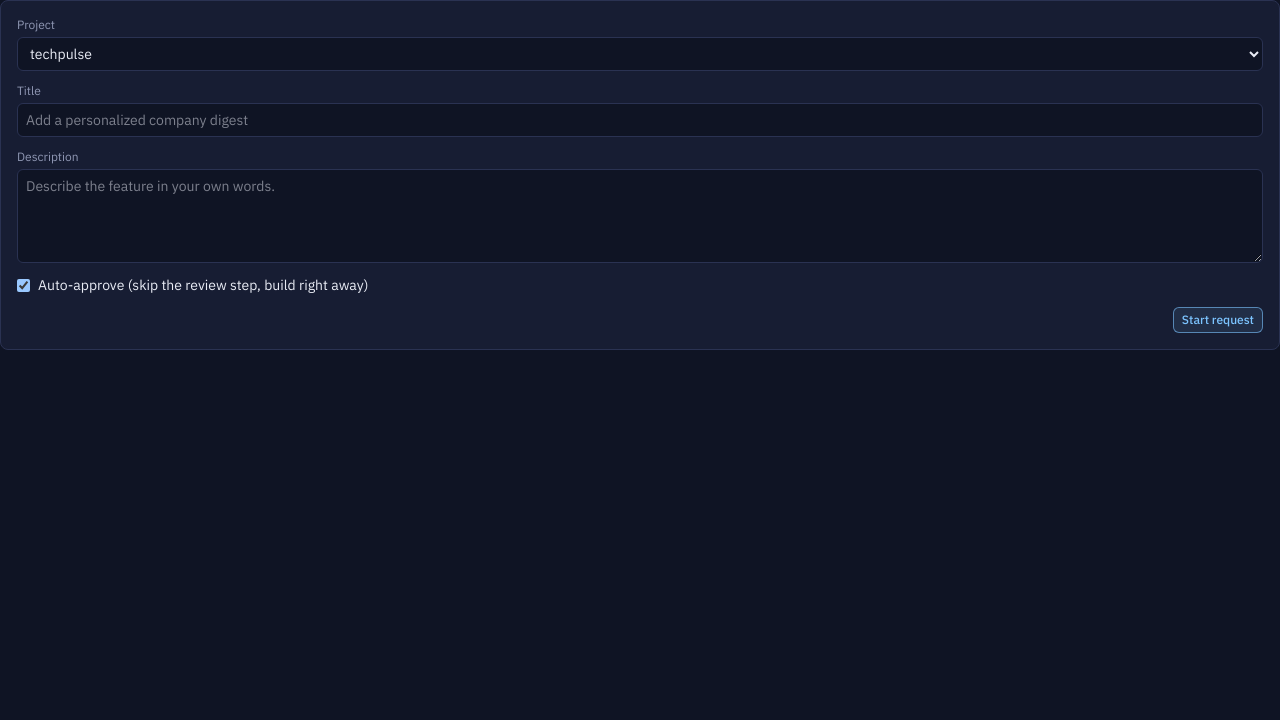
Test: NewRequestForm › shows a toast when the request fails to start
This screenshot has width=1280, height=720.
Type "Add a widget" into the field labelled "Title" at point(640, 120), box [17, 103, 1263, 137]
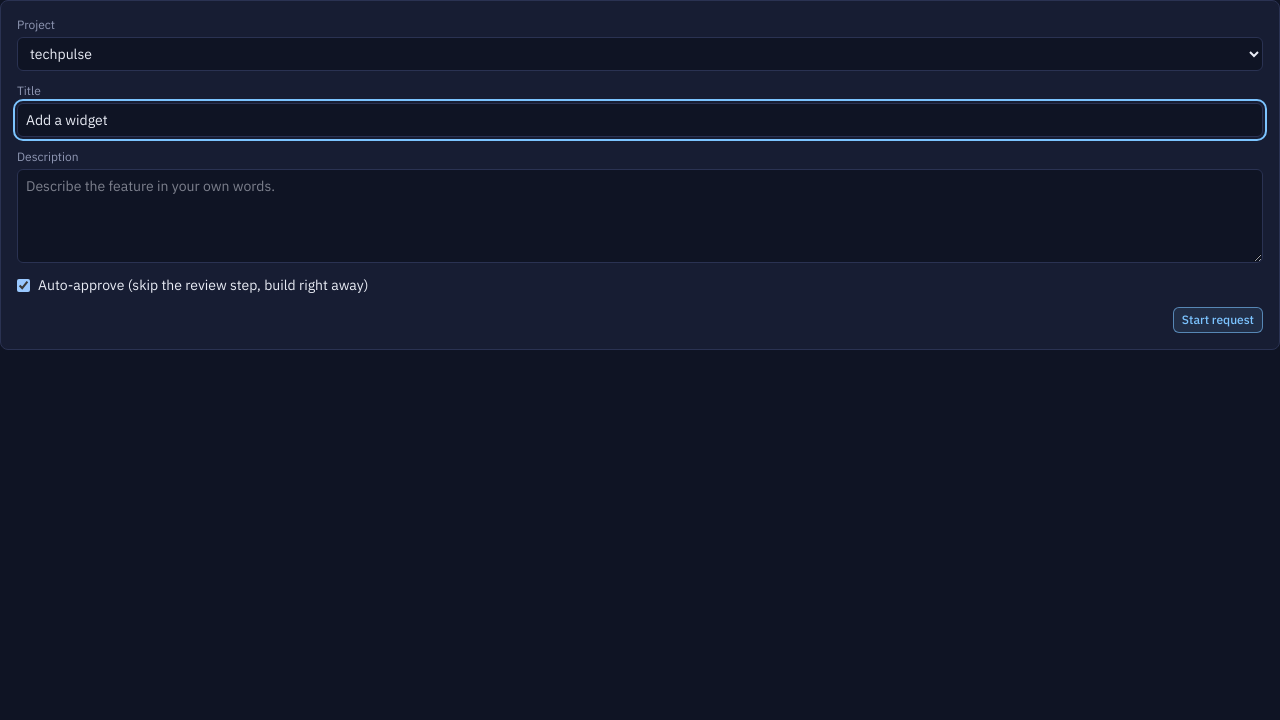
Type "A short description." into the text box labelled "Description" at point(640, 216), box [17, 169, 1263, 263]
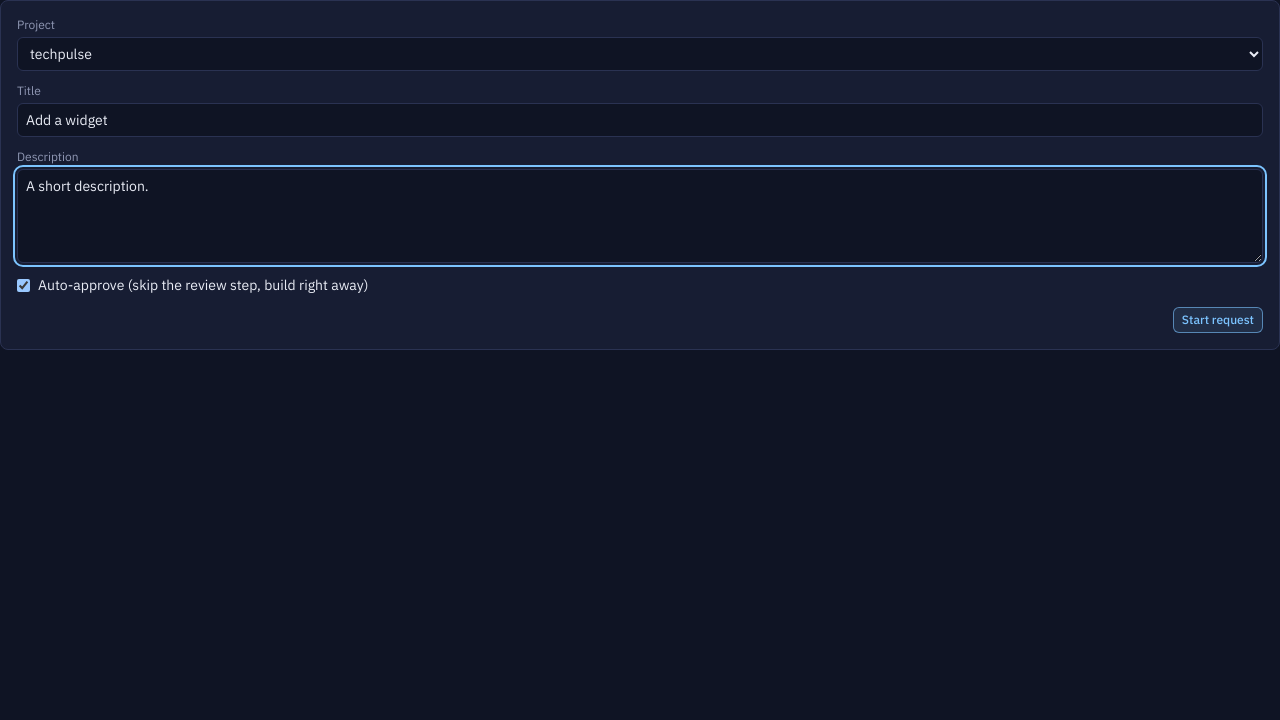
Click the button "Start request" at point(1218, 320), box [1173, 307, 1263, 333]
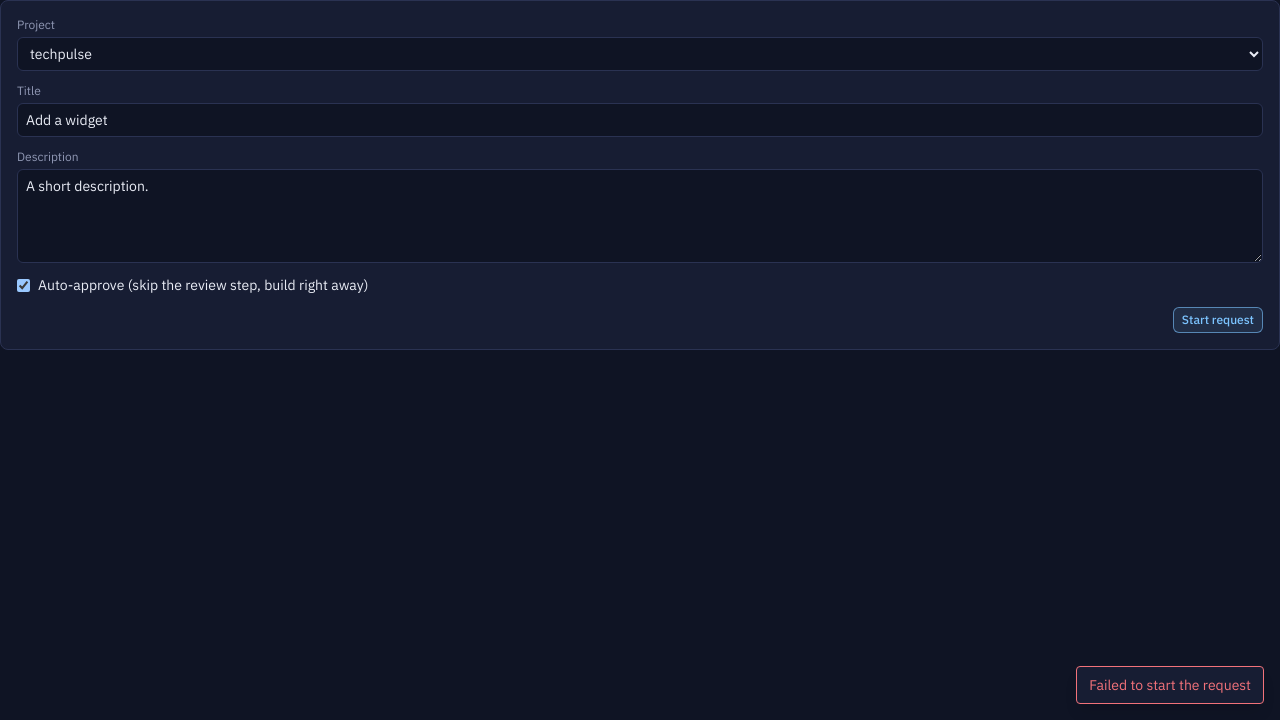
Check: the text "Failed to start the request" is shown, box [1076, 666, 1264, 704]
